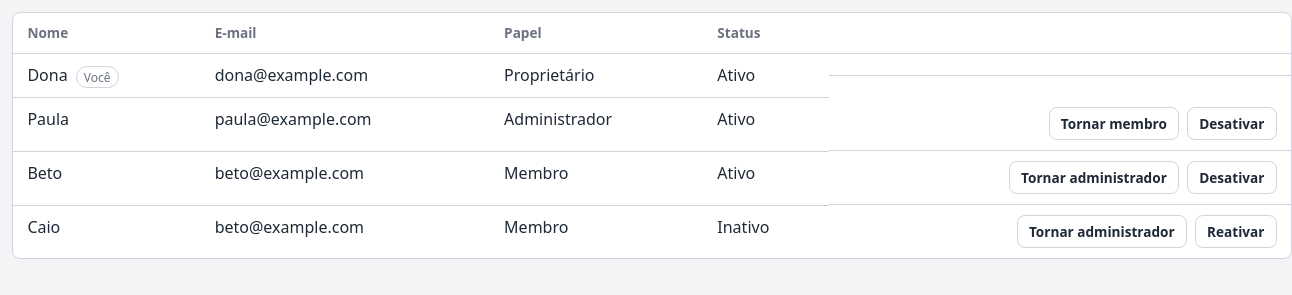
Test: TeamMembers › explains a stale row and a refused action
This screenshot has width=1292, height=295.
Click the 2nd button "Desativar" at [1232, 178], box [1187,161,1277,194]
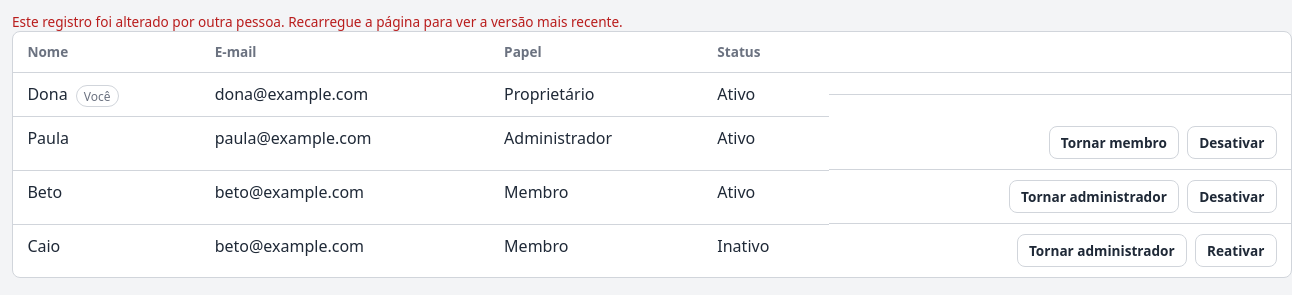
Now the message shows "Este registro foi alterado por outra pessoa. Recarregue a página para ver a versão mais recente.", box [12,12,623,31]
Click the 2nd button "Desativar" at [1232, 196], box [1187,180,1277,213]
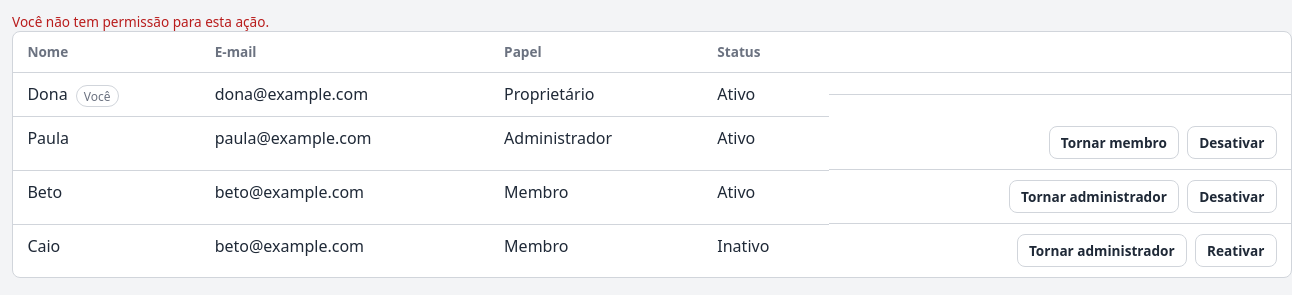
Now the message reads "Você não tem permissão para esta ação.", box [12,12,269,31]
